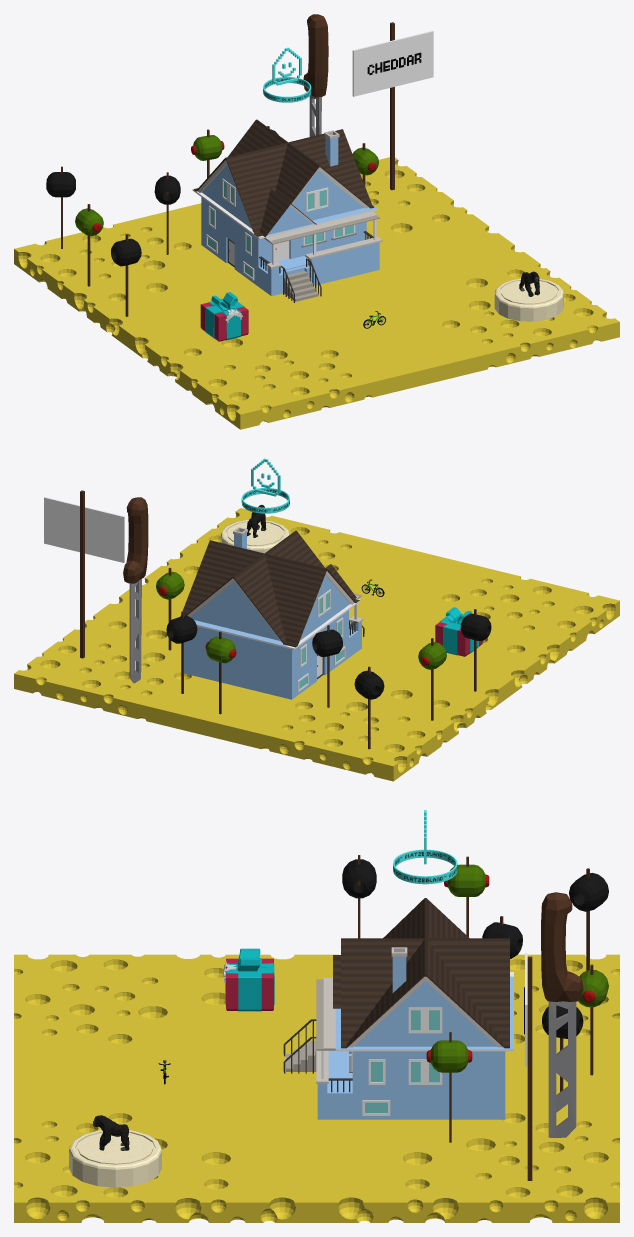
3 renders of one model, top to bottom at view 1: azimuth 30°, elevation 25°; view 2: azimuth 150°, elevation 25°; view 3: azimuth 270°, elevation 25°, orthographic. The views are drawn at different scales.
Parts seen in each view (by area): view 1: Cube.022, Cube.1594, Cube.023, Cylinder.016, Cube.024, OBJRANDOM_GIANT_PRESENT, TYPE_PREMIUM, Sphere.017, Sphere.018, Sphere.016, Sphere.020, Sphere.022 (+1 smaller); view 2: Cube.022, Cube.1594, Cube.023, Cube.024, OBJRANDOM_GIANT_PRESENT, Cylinder.016, TYPE_PREMIUM, Sphere.021, Sphere.017, Sphere.020, Sphere.022, Sphere.016 (+2 smaller); view 3: Cube.022, Cube.1594, Cube.024, Cylinder.016, OBJRANDOM_GIANT_PRESENT, Cube.023, Sphere.019, Sphere.016, TYPE_PREMIUM, Sphere.017, Sphere.018, Sphere.022 (+3 smaller).
Boxes of the visible parts, left/top/right/bottom form: Cube.022: left=14, top=157, right=619, bottom=429; Cube.1594: left=192, top=119, right=382, bottom=302; Cube.023: left=352, top=22, right=433, bottom=190; Cylinder.016: left=494, top=278, right=563, bottom=321; Cube.024: left=303, top=14, right=328, bottom=136; OBJRANDOM_GIANT_PRESENT: left=200, top=292, right=248, bottom=341; TYPE_PREMIUM: left=263, top=47, right=311, bottom=102; Sphere.017: left=111, top=234, right=141, bottom=316; Sphere.018: left=75, top=204, right=103, bottom=286; Sphere.016: left=46, top=166, right=75, bottom=248; Sphere.020: left=154, top=172, right=180, bottom=254; Sphere.022: left=191, top=129, right=224, bottom=177; Cube.022: left=14, top=508, right=619, bottom=781; Cube.1594: left=179, top=527, right=364, bottom=699; Cube.023: left=44, top=490, right=124, bottom=658; Cube.024: left=123, top=497, right=148, bottom=683; OBJRANDOM_GIANT_PRESENT: left=435, top=607, right=483, bottom=656; Cylinder.016: left=220, top=520, right=289, bottom=553; TYPE_PREMIUM: left=241, top=458, right=289, bottom=513; Sphere.021: left=166, top=611, right=197, bottom=693; Sphere.017: left=460, top=609, right=491, bottom=691; Sphere.020: left=312, top=625, right=342, bottom=707; Sphere.022: left=205, top=631, right=236, bottom=714; Sphere.016: left=354, top=666, right=384, bottom=749; Cube.022: left=14, top=954, right=619, bottom=1222; Cube.1594: left=283, top=898, right=513, bottom=1119; Cube.024: left=541, top=892, right=583, bottom=1137; Cylinder.016: left=69, top=1130, right=161, bottom=1187; OBJRANDOM_GIANT_PRESENT: left=223, top=948, right=274, bottom=1011; Cube.023: left=524, top=953, right=532, bottom=1180; Sphere.019: left=426, top=1032, right=472, bottom=1142; Sphere.016: left=569, top=868, right=608, bottom=970; TYPE_PREMIUM: left=393, top=810, right=457, bottom=884; Sphere.017: left=342, top=855, right=376, bottom=938; Sphere.018: left=444, top=856, right=489, bottom=936; Sphere.022: left=578, top=964, right=608, bottom=1075.
Size of the model in its own units: 3917 by 2224 by 4000.
40 materials, 4 textured.
